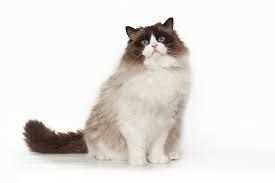ragdoll: (124, 13, 185, 83)
